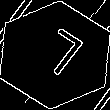L_SW: (25, 26, 85, 84)
